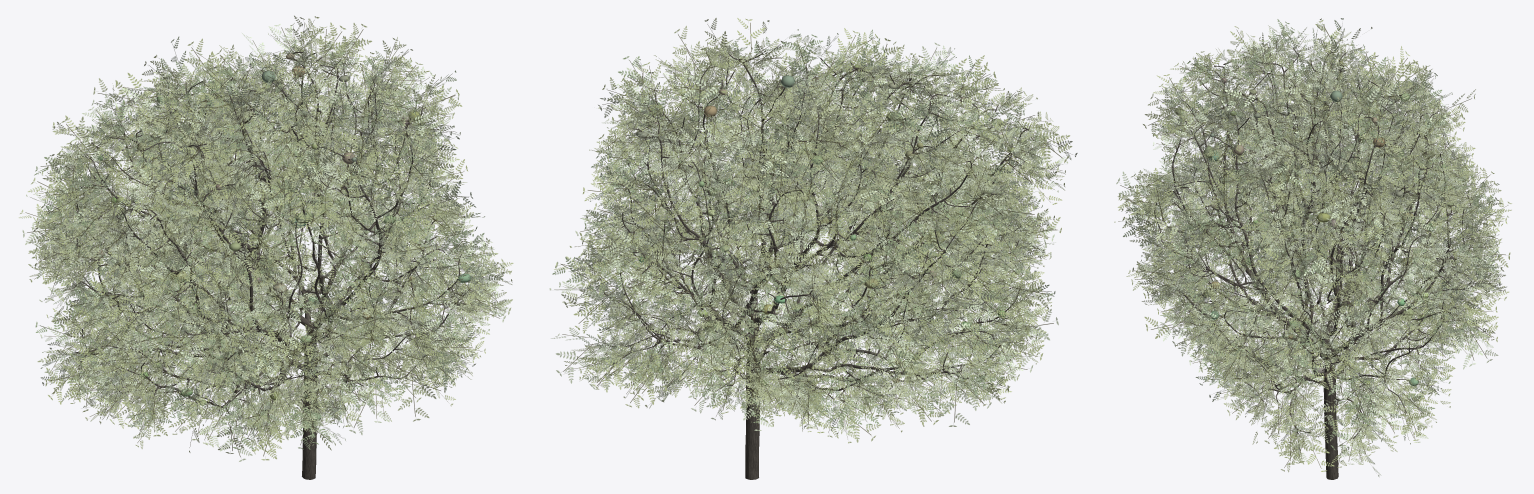
Rendered from tree_24_broadleaf.glb.
The picture shows the model from 3 angles, left to right: view 1: azimuth 30°, elevation 25°; view 2: azimuth 150°, elevation 25°; view 3: azimuth 270°, elevation 25°; orthographic projection. The views are drawn at different scales.
Parts seen in each view (by area): view 1: tree_24_broadleaf.leaves, tree_24_broadleaf.trunk_branches, tree_24_broadleaf.foliage_volume; view 2: tree_24_broadleaf.leaves, tree_24_broadleaf.trunk_branches, tree_24_broadleaf.foliage_volume; view 3: tree_24_broadleaf.leaves, tree_24_broadleaf.trunk_branches, tree_24_broadleaf.foliage_volume.
Part boxes in pixels (x1,y1,x2,y2): tree_24_broadleaf.leaves: (18, 15, 513, 461); tree_24_broadleaf.trunk_branches: (64, 52, 477, 479); tree_24_broadleaf.foliage_volume: (67, 53, 471, 420); tree_24_broadleaf.leaves: (549, 18, 1077, 443); tree_24_broadleaf.trunk_branches: (600, 53, 1030, 479); tree_24_broadleaf.foliage_volume: (609, 61, 1014, 385); tree_24_broadleaf.leaves: (1114, 18, 1511, 476); tree_24_broadleaf.trunk_branches: (1154, 47, 1472, 479); tree_24_broadleaf.foliage_volume: (1174, 58, 1453, 385).
Bounding box in the file's own units: 16.16 × 15.29 × 14.05.
Materials: 3 (2 with a texture image).
